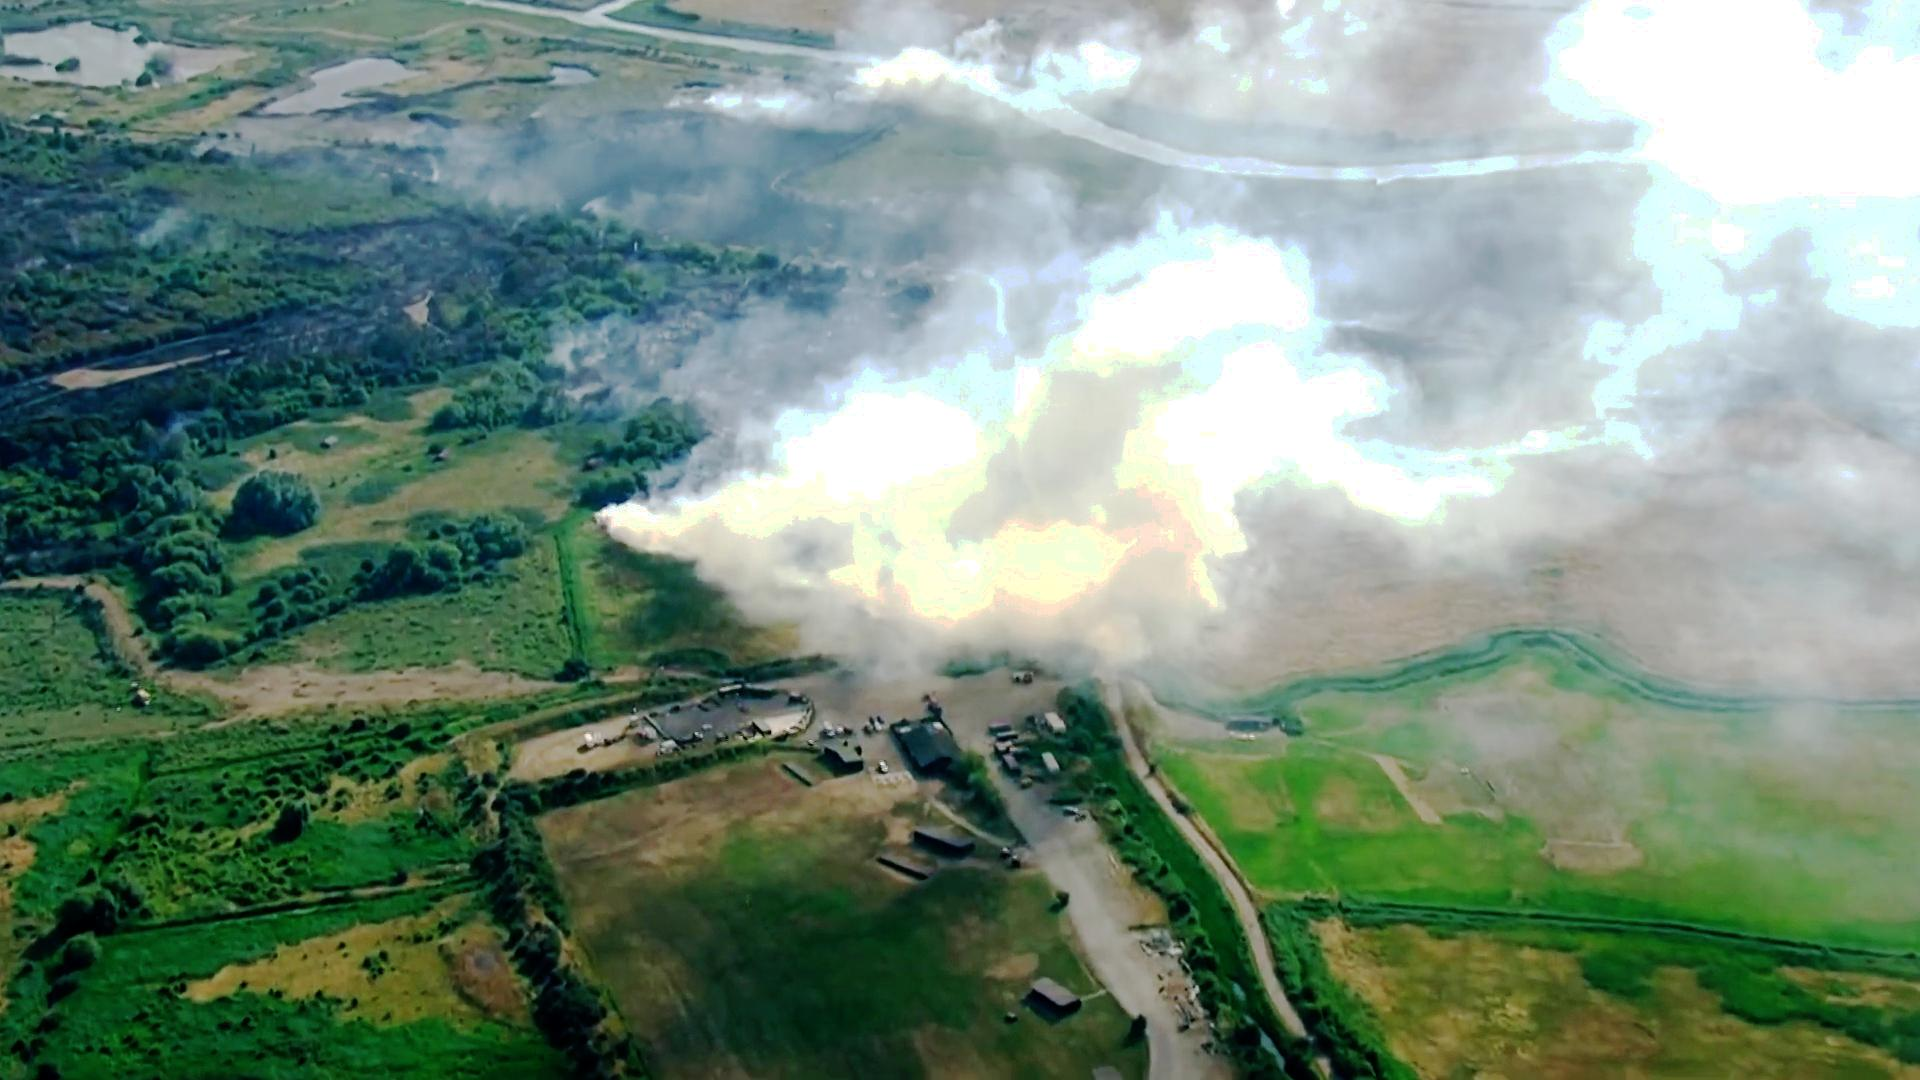smoke: (934, 359, 1178, 630)
